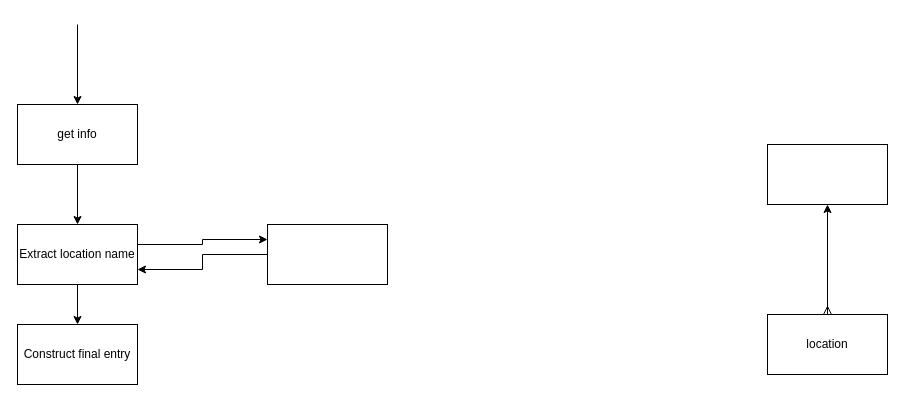
Some shapes in this 905 by 402 pixel diagram are drawn without their labels. Here are the shapes that lost their labels. From the top down, the centre of each, then its label:
At pixel 827 174: "user".
At pixel 327 254: "Get lon /lat".
